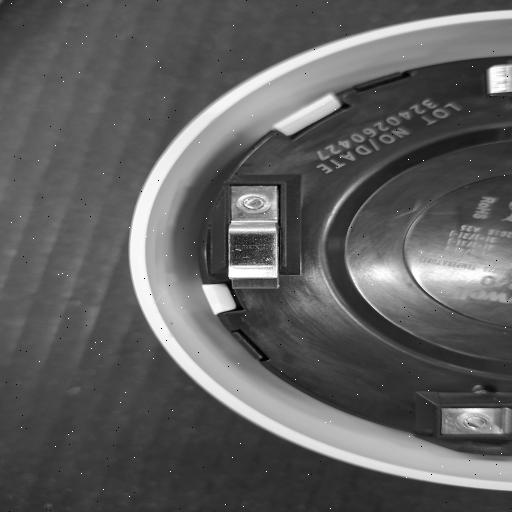yayli: (216, 180, 304, 298)
